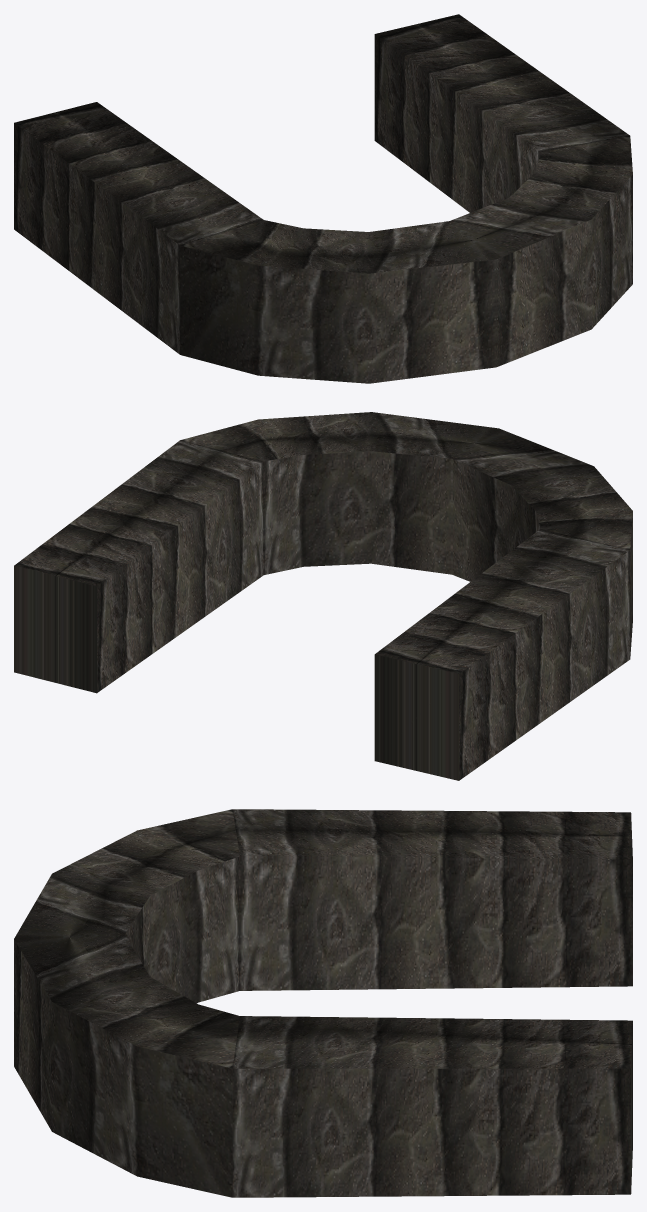
The model's file is gate_09.obj.
The picture shows the model from 3 angles, top to bottom: view 1: azimuth 30°, elevation 25°; view 2: azimuth 150°, elevation 25°; view 3: azimuth 270°, elevation 25°; orthographic projection. The views are drawn at different scales.
Parts seen in each view (by area): view 1: (null); view 2: (null); view 3: (null).
Boxes of the visible parts, x1,y1,x2,y2 form: (null): (14,14,632,383); (null): (14,412,632,780); (null): (14,809,632,1197).
Bounding box in the file's own units: 3.86 × 0.9498 × 3.89.
